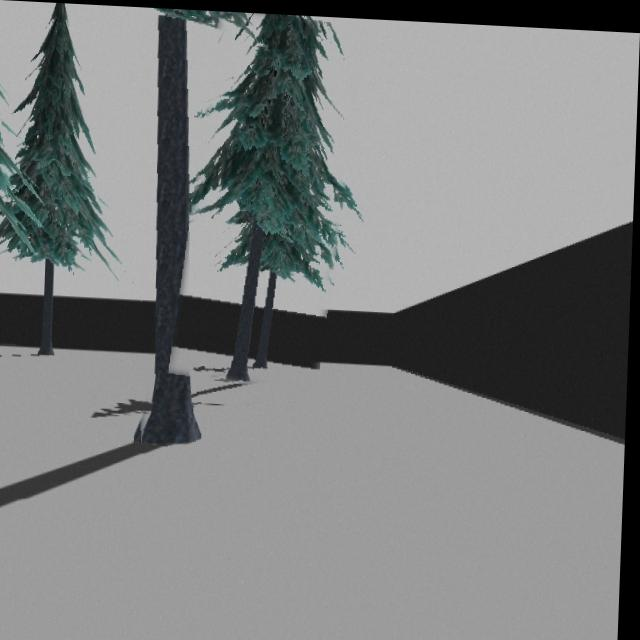tree: (193, 11, 345, 380), (144, 14, 205, 445)
